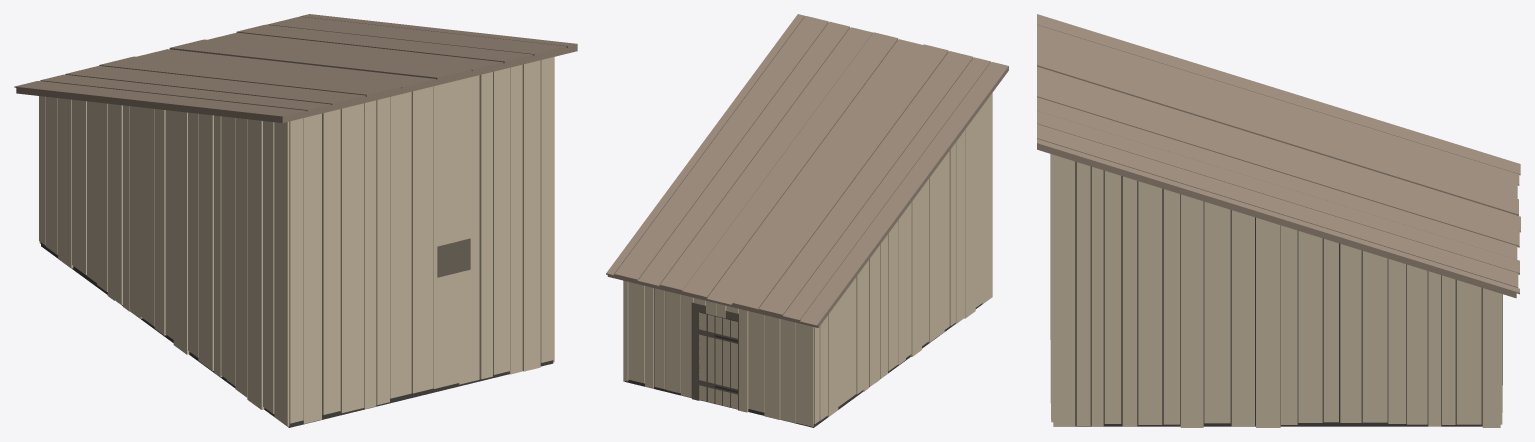
The model's file is recon_1835_north_d2_091__inferred_1835.glb.
3 renders of one model, left to right at view 1: azimuth 30°, elevation 25°; view 2: azimuth 150°, elevation 25°; view 3: azimuth 270°, elevation 25°, orthographic. The views are drawn at different scales.
Parts seen in each view (by area): view 1: recon_1835_north_d2_091__inferred_1835; view 2: recon_1835_north_d2_091__inferred_1835; view 3: recon_1835_north_d2_091__inferred_1835.
Boxes of the visible parts, <box> form: recon_1835_north_d2_091__inferred_1835: <box>14,14,577,427</box>; recon_1835_north_d2_091__inferred_1835: <box>606,14,1008,427</box>; recon_1835_north_d2_091__inferred_1835: <box>1037,14,1520,427</box>.
Size of the model in its own units: 4.66 by 4.88 by 7.35.
